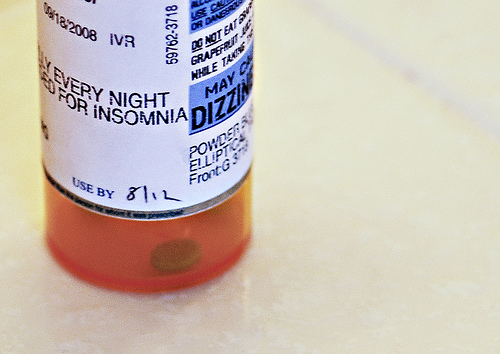pill bottle: (39, 1, 256, 300)
